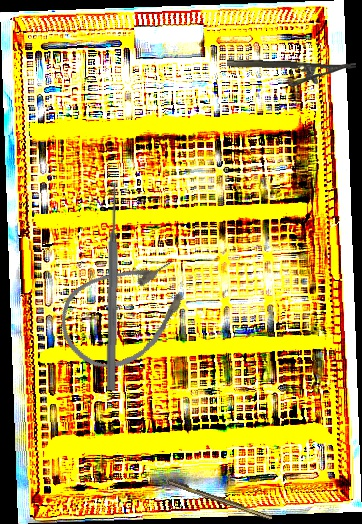Cannula: (46, 240, 206, 385)
Hook Surgical: (149, 471, 273, 522)
Needle Holder: (226, 58, 356, 89)
Pusher: (104, 184, 122, 391)
